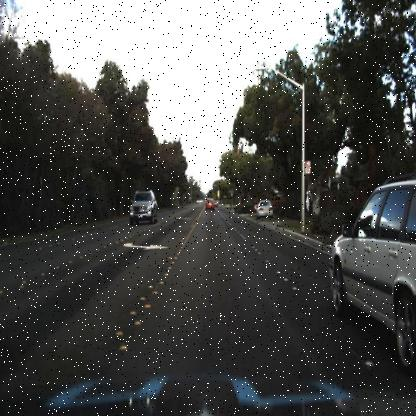car: (322, 165, 415, 372), (124, 184, 160, 230), (254, 196, 276, 221), (201, 190, 217, 214)
